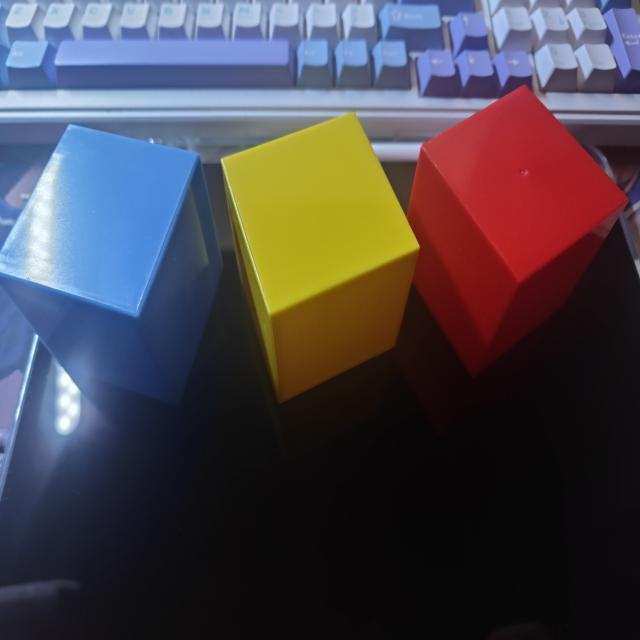blue: (0, 124, 225, 409)
red: (406, 83, 631, 381)
yellow: (220, 109, 422, 407)
